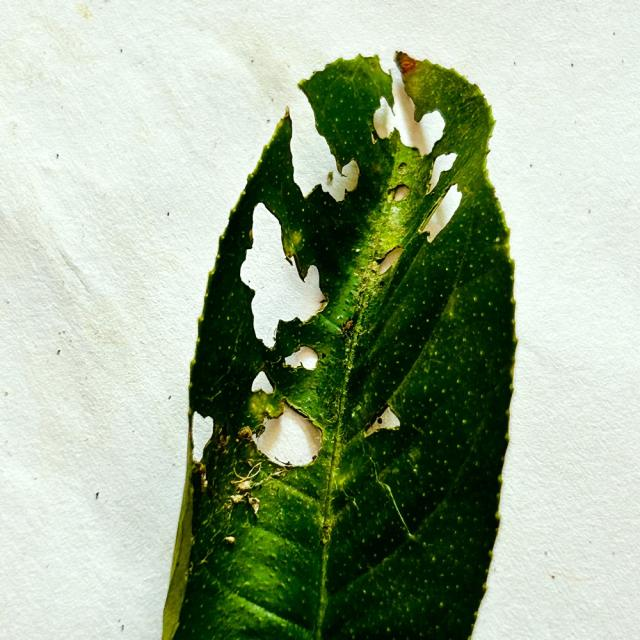Deficiency Leaf: (241, 203, 327, 347), (241, 209, 328, 348), (380, 175, 461, 268), (387, 67, 444, 156), (254, 402, 323, 470), (287, 108, 339, 198), (249, 204, 287, 266), (239, 252, 268, 326), (320, 158, 361, 203), (424, 153, 456, 195), (190, 410, 214, 459), (365, 405, 401, 437), (372, 98, 396, 138), (374, 245, 404, 274), (289, 248, 310, 283), (250, 369, 273, 395), (369, 256, 387, 275), (392, 185, 410, 201), (251, 431, 260, 449)
Lemon: (164, 52, 515, 639)
